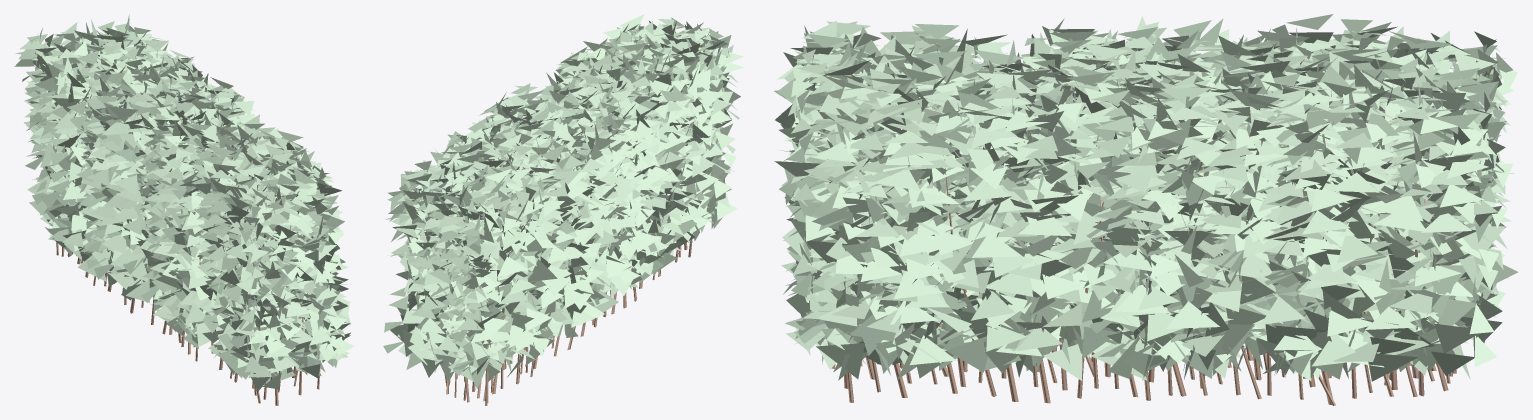
The model's file is [foliage] Bush decorative.fbx.
The picture shows the model from 3 angles, left to right: view 1: azimuth 30°, elevation 25°; view 2: azimuth 150°, elevation 25°; view 3: azimuth 270°, elevation 25°; orthographic projection. The views are drawn at different scales.
Parts seen in each view (by area): view 1: Bush decorative_LOD0; view 2: Bush decorative_LOD0; view 3: Bush decorative_LOD0.
Boxes of the visible parts, x1,y1,x2,y2 form: Bush decorative_LOD0: [14, 14, 354, 405]; Bush decorative_LOD0: [383, 14, 744, 405]; Bush decorative_LOD0: [774, 14, 1518, 405].
Size of what is drawn, in the model's own units: 111 by 155 by 312.
